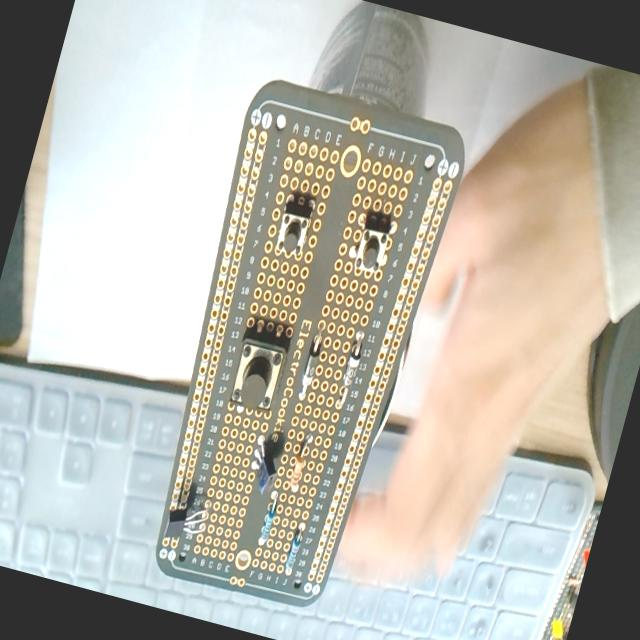diode: (334, 328, 368, 409), (294, 328, 326, 402)
resistor: (284, 434, 312, 494), (257, 498, 279, 546), (282, 528, 304, 576)
switch: (225, 318, 293, 415), (273, 196, 317, 260), (348, 216, 393, 278)
transistor: (238, 434, 288, 498), (163, 483, 214, 542)
